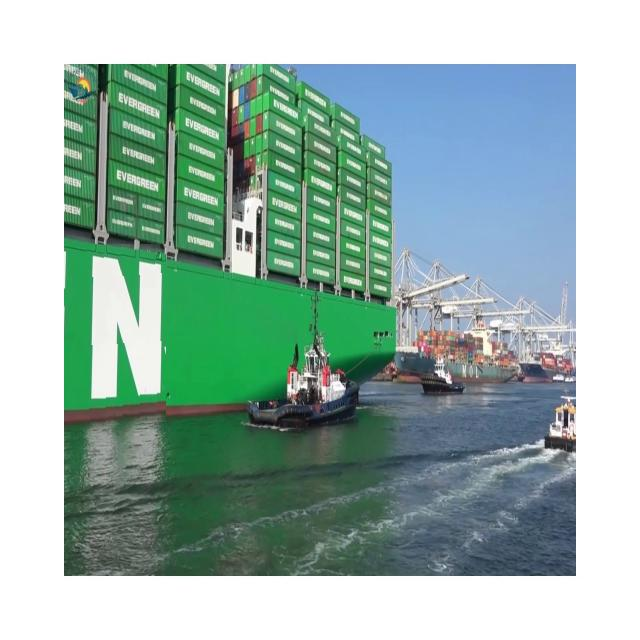OCR: (78, 244, 166, 427)
